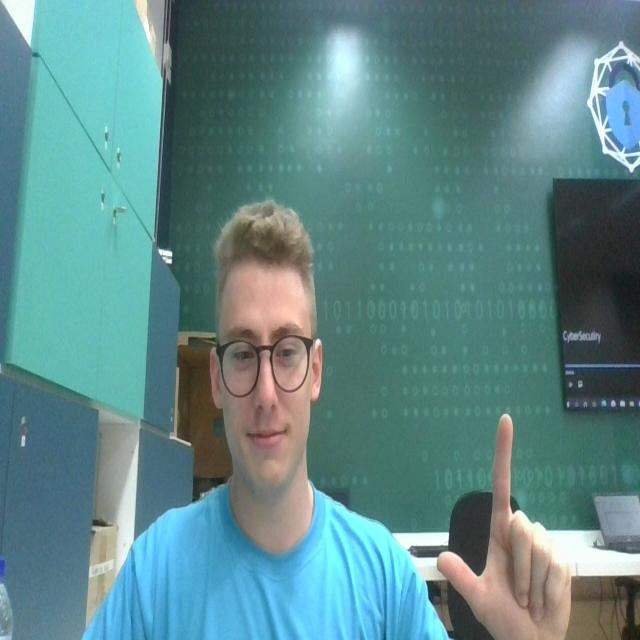L: (435, 395, 589, 640)
